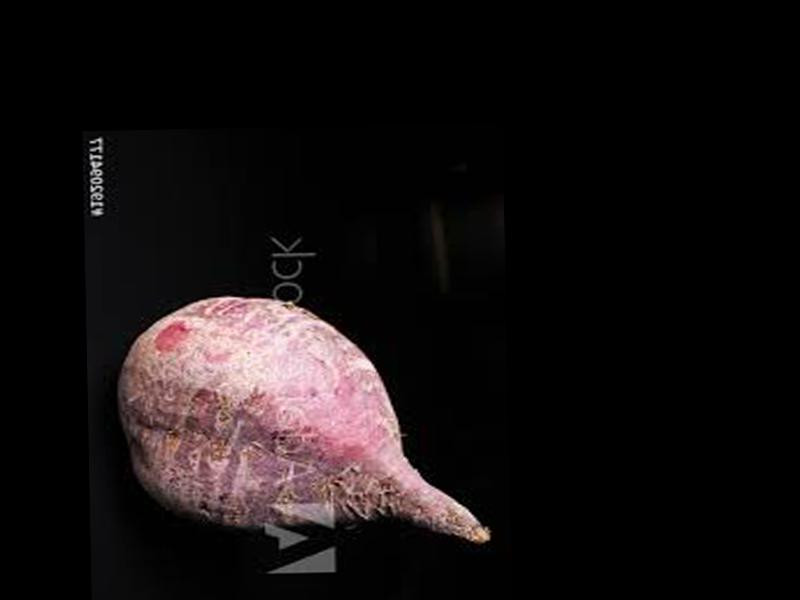Beet: (119, 289, 489, 547)
